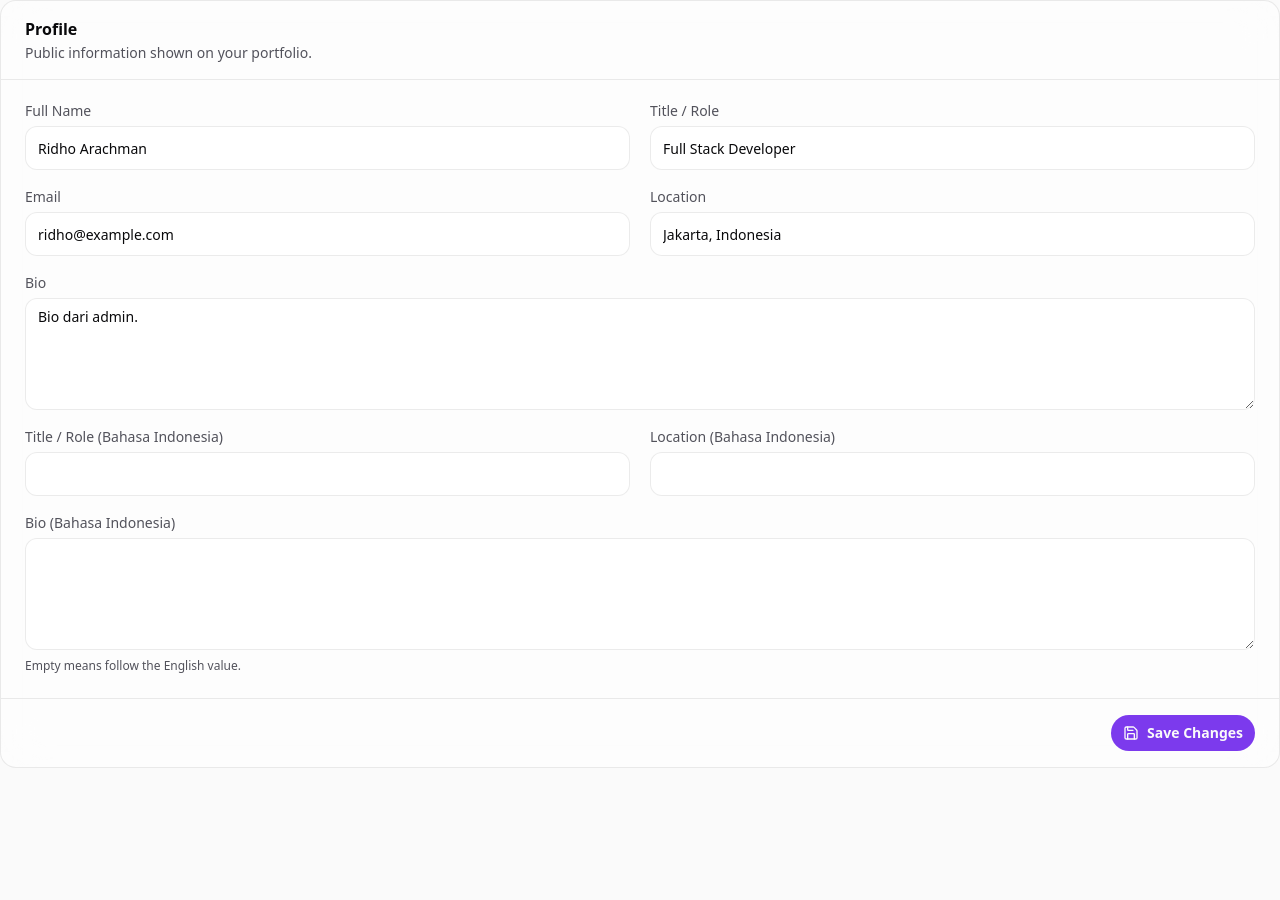
Test: ProfileForm › tidak mengirim apa pun saat validasi client gagal
Clear the field showing "Ridho Arachman" at (328, 148), box [25,126,630,170]
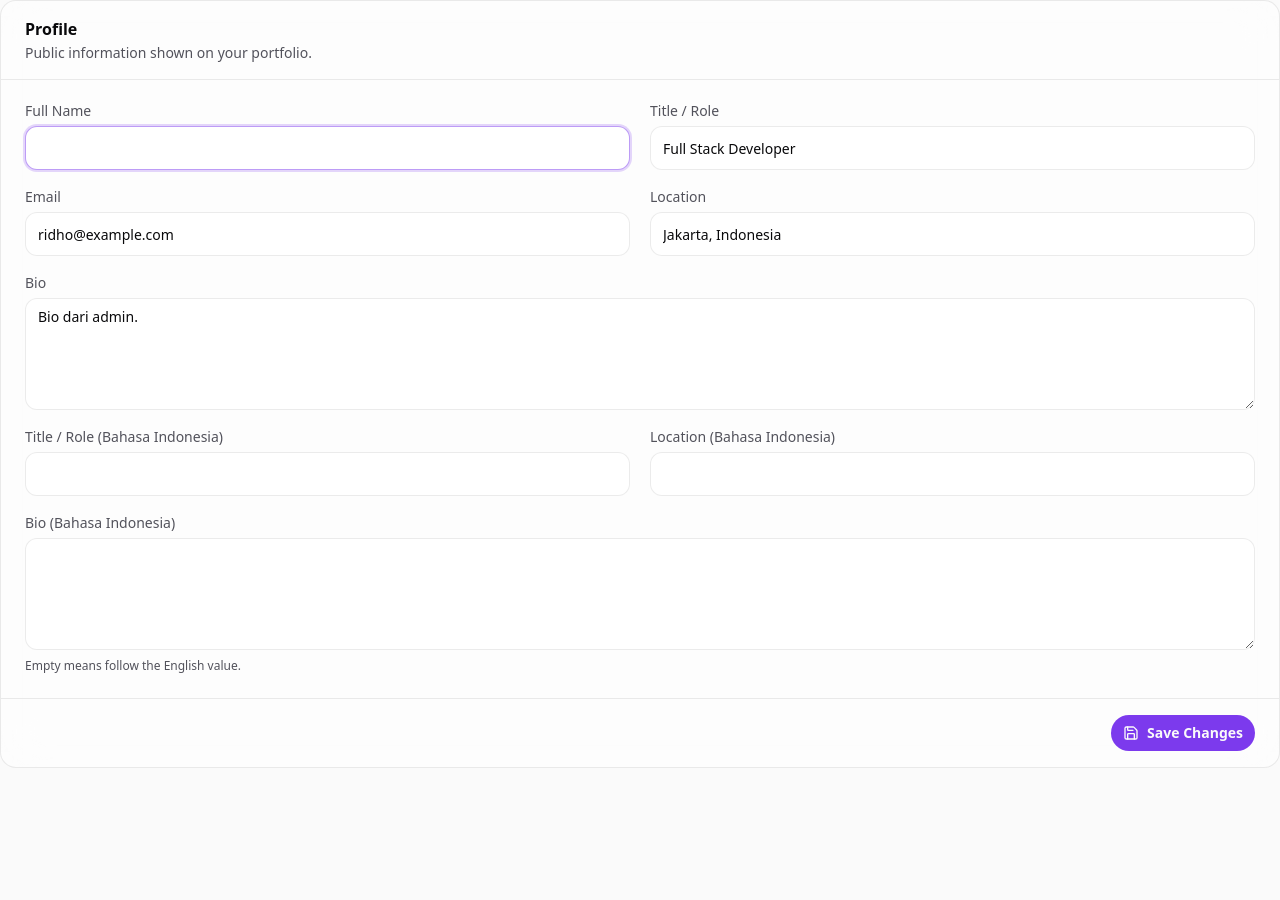
Click the button "Save Changes" at (1183, 733), box [1111,715,1255,751]
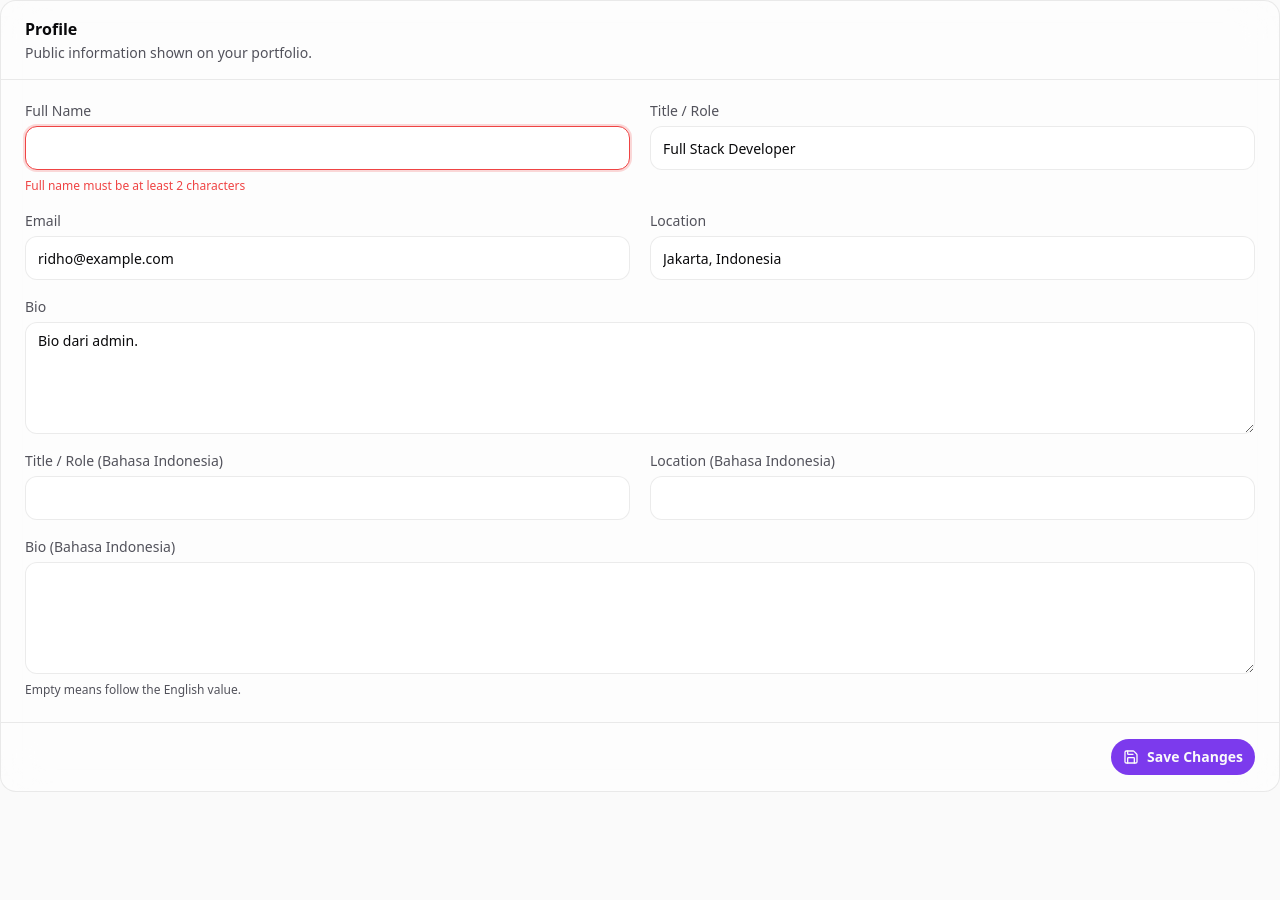
expect the text "Full name must be at least 2 characters" is shown: met, box [25,177,245,194]
